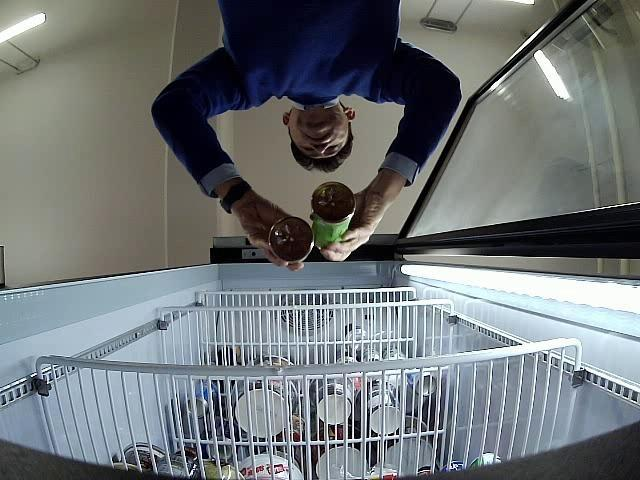19_17cha: (311, 182, 356, 251), (268, 216, 314, 262)
